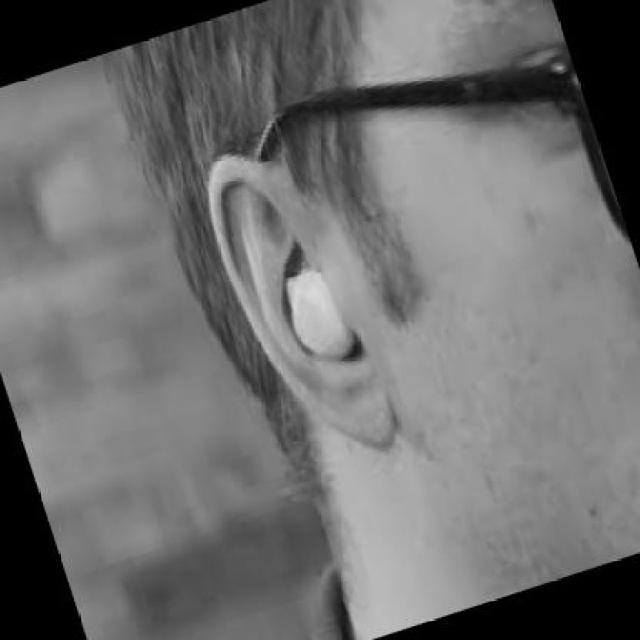earphone: (269, 263, 372, 386)
